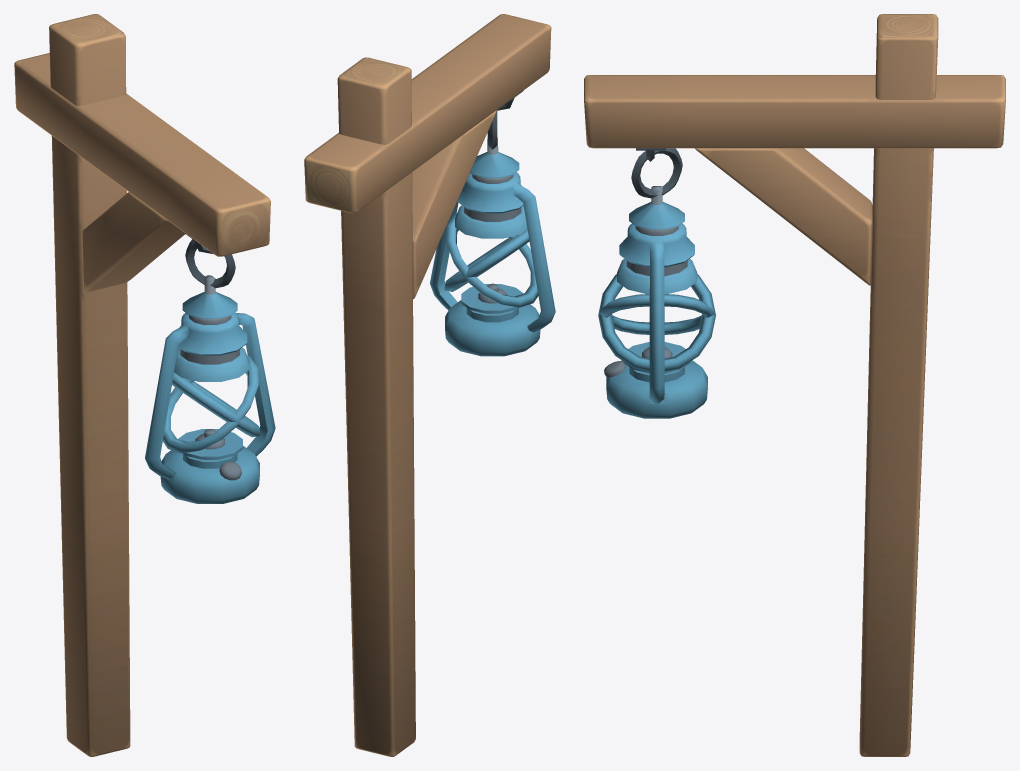
The model's file is OilLanternHanging.fbx.
3 renders of one model, left to right at view 1: azimuth 30°, elevation 25°; view 2: azimuth 150°, elevation 25°; view 3: azimuth 270°, elevation 25°, orthographic. The views are drawn at different scales.
Visible parts, largest first — view 1: SM_LanternPost, SM_OilLantern_Hanging; view 2: SM_LanternPost, SM_OilLantern_Hanging; view 3: SM_LanternPost, SM_OilLantern_Hanging.
Boxes of the visible parts, x1,y1,x2,y2 form: SM_LanternPost: (14, 14, 270, 756); SM_OilLantern_Hanging: (145, 239, 275, 503); SM_LanternPost: (304, 14, 551, 756); SM_OilLantern_Hanging: (430, 110, 555, 356); SM_LanternPost: (584, 14, 1005, 756); SM_OilLantern_Hanging: (598, 148, 715, 418).
Bounding box in the file's own units: 48 × 252 × 134.
